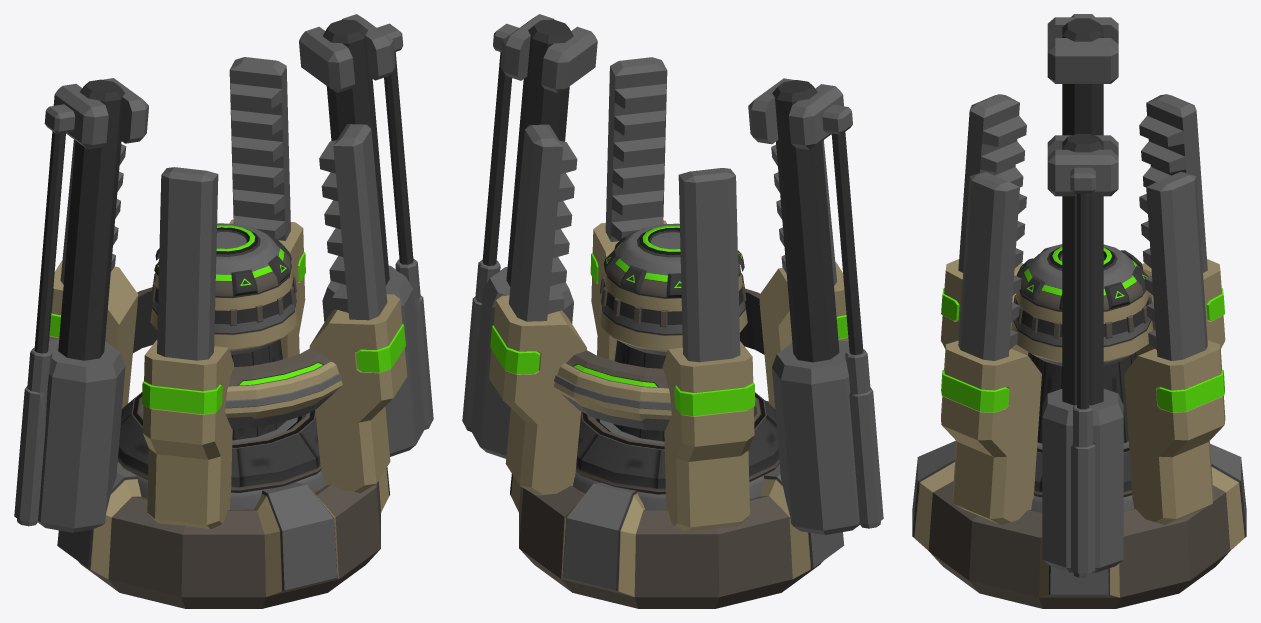
Rendered from Jammer.fbx.
The picture shows the model from 3 angles, left to right: view 1: azimuth 30°, elevation 25°; view 2: azimuth 150°, elevation 25°; view 3: azimuth 270°, elevation 25°; orthographic projection. The views are drawn at different scales.
Visible parts, largest first — view 1: JammerTowerA, JammerTowerB; view 2: JammerTowerA, JammerTowerB; view 3: JammerTowerA, JammerTowerB.
Boxes of the visible parts, box(x1,y1,x2,y2) form: JammerTowerA: box(14, 14, 433, 608); JammerTowerB: box(150, 223, 298, 440); JammerTowerA: box(462, 14, 883, 608); JammerTowerB: box(599, 223, 747, 441); JammerTowerA: box(912, 14, 1246, 608); JammerTowerB: box(1011, 244, 1153, 443).
Size of the model in its own units: 3.49 by 3.95 by 2.55.
